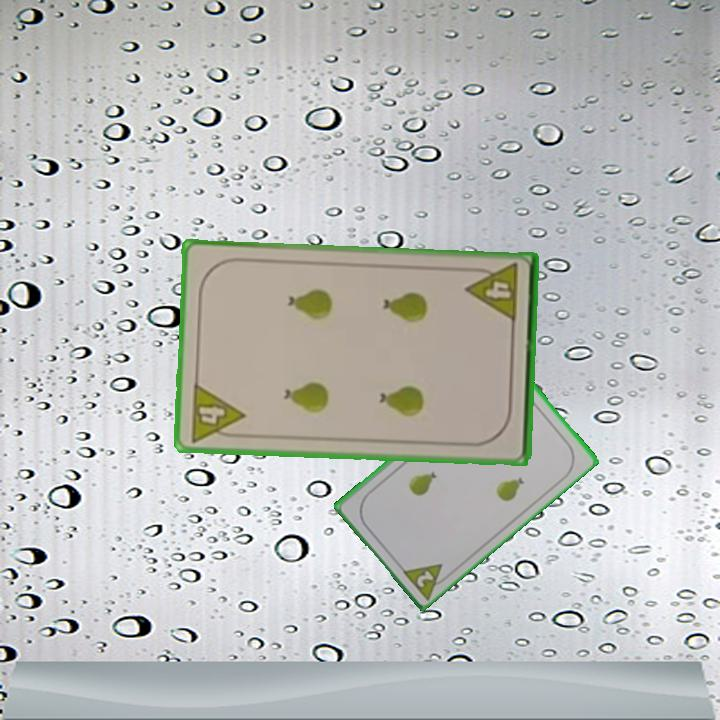2p: (398, 559, 453, 601)
4p: (186, 380, 247, 445), (463, 260, 521, 325)
